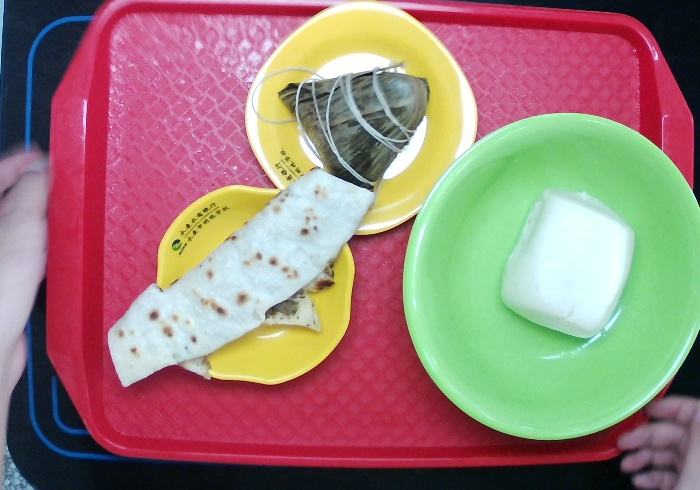YKMZ-Huang_Se_Ao_Bian_Wan: (140, 166, 374, 395)
YKMZ-Huang_Se_Fang_Die: (232, 1, 498, 249)
YKMZ-Lv_Se_Tang_Wan: (393, 101, 700, 454)
